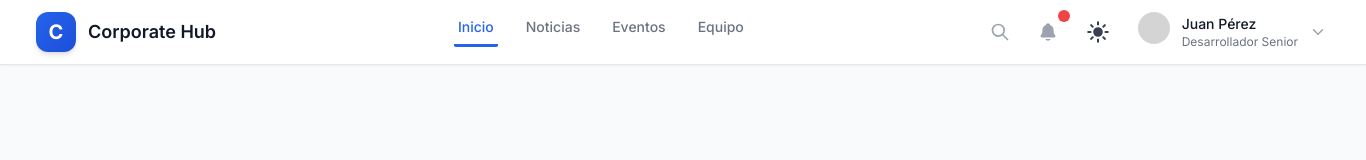
UnifiedNavbar › restores navigation when search is closed
The image size is (1366, 160).
Open search
Click the button named "Abrir búsqueda". click: [1000, 32]
box: [982,14,1018,50]
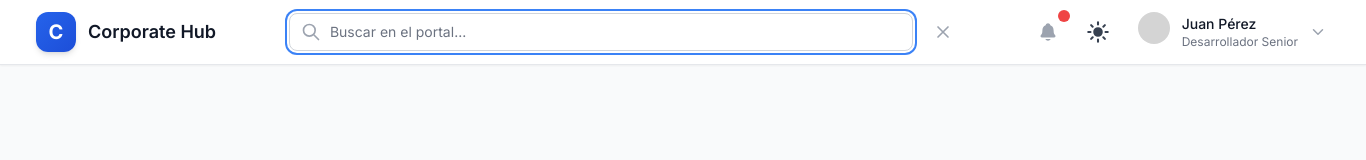
Now the search field named "Campo de búsqueda" is shown, box [289,13,913,51]
Close search
Click the button named "Cerrar búsqueda". click: [943, 32]
box: [925,14,961,50]
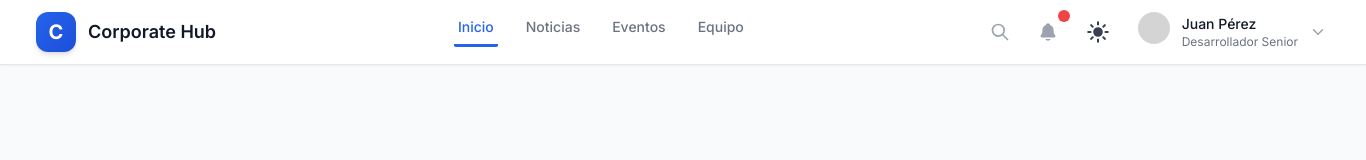
Now the navigation bar is shown, box [454,17,748,47]
Now the tab "Inicio" is shown, box [454,17,498,47]
